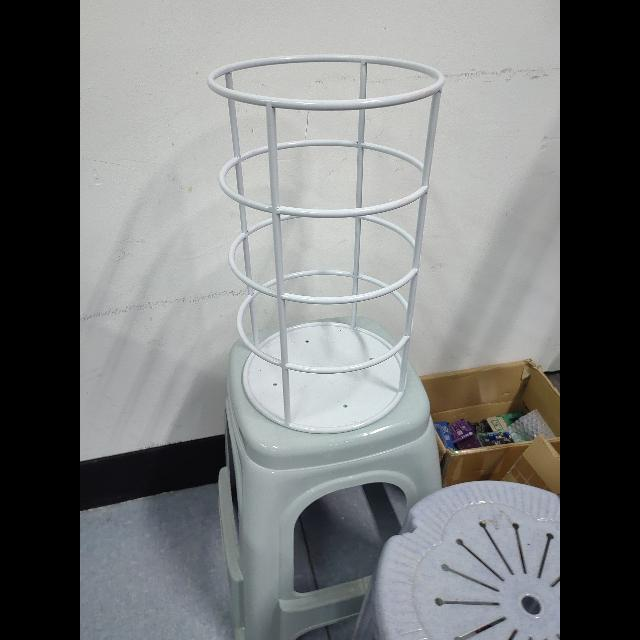S: (204, 51, 450, 439)
